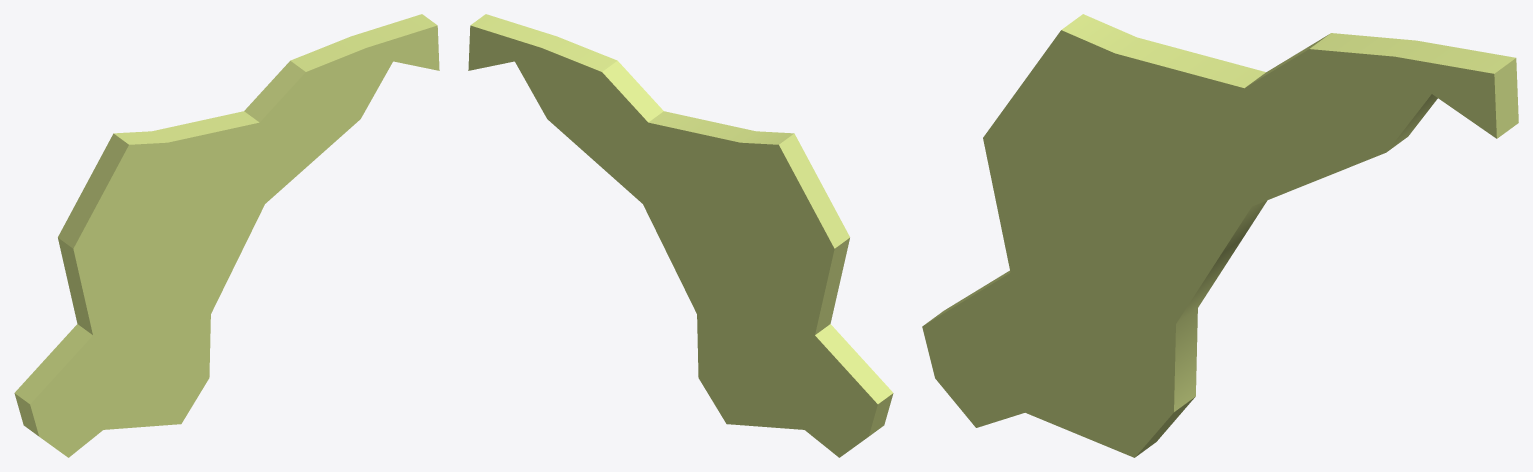
The model's file is sushil.fbx.
3 views of the same model, side by side, from view 1: azimuth 30°, elevation 25°; view 2: azimuth 150°, elevation 25°; view 3: azimuth 330°, elevation 25° (orthographic). The views are drawn at different scales.
Visible parts, largest first — view 1: sushil; view 2: sushil; view 3: sushil.
Part boxes in pixels (x1,y1,x2,y2): sushil: [14, 14, 439, 457]; sushil: [468, 14, 893, 457]; sushil: [922, 14, 1518, 457].
Bounding box in the file's own units: 121 × 96.76 × 8.
